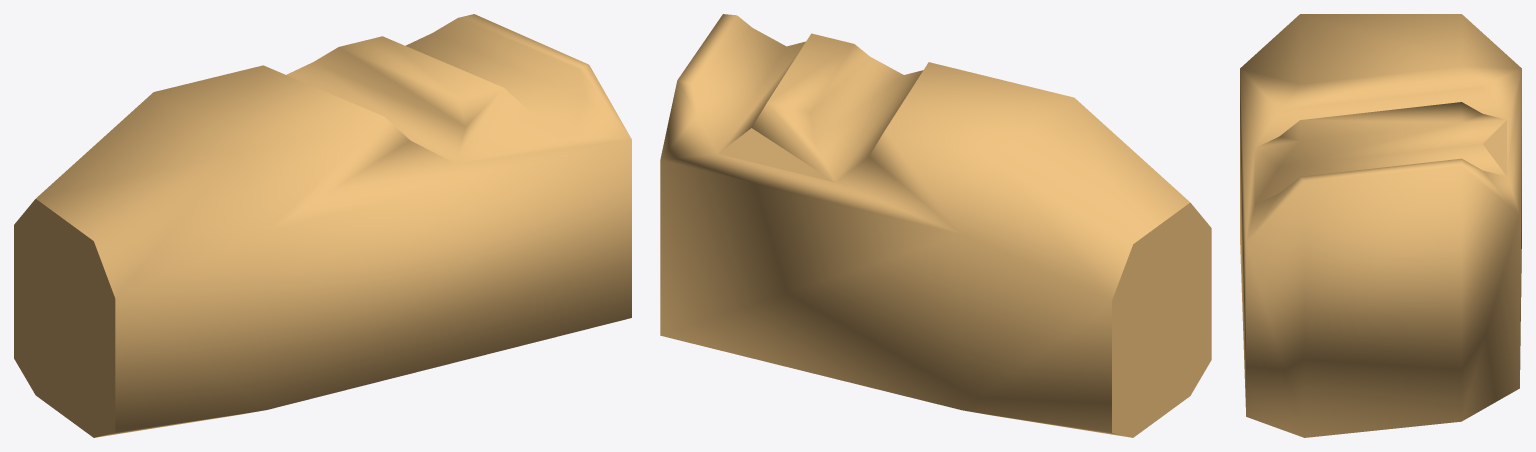
File: bread_half.glb
3 views of the same model, side by side, from view 1: azimuth 30°, elevation 25°; view 2: azimuth 150°, elevation 25°; view 3: azimuth 270°, elevation 25° (orthographic). The views are drawn at different scales.
Visible parts, largest first — view 1: bread_half; view 2: bread_half; view 3: bread_half.
Part boxes in pixels (x1,y1,x2,y2): bread_half: (14, 14, 631, 437); bread_half: (660, 14, 1211, 437); bread_half: (1240, 14, 1521, 437).
Size of the model in its own units: 0.2962 by 0.1491 by 0.1491.
